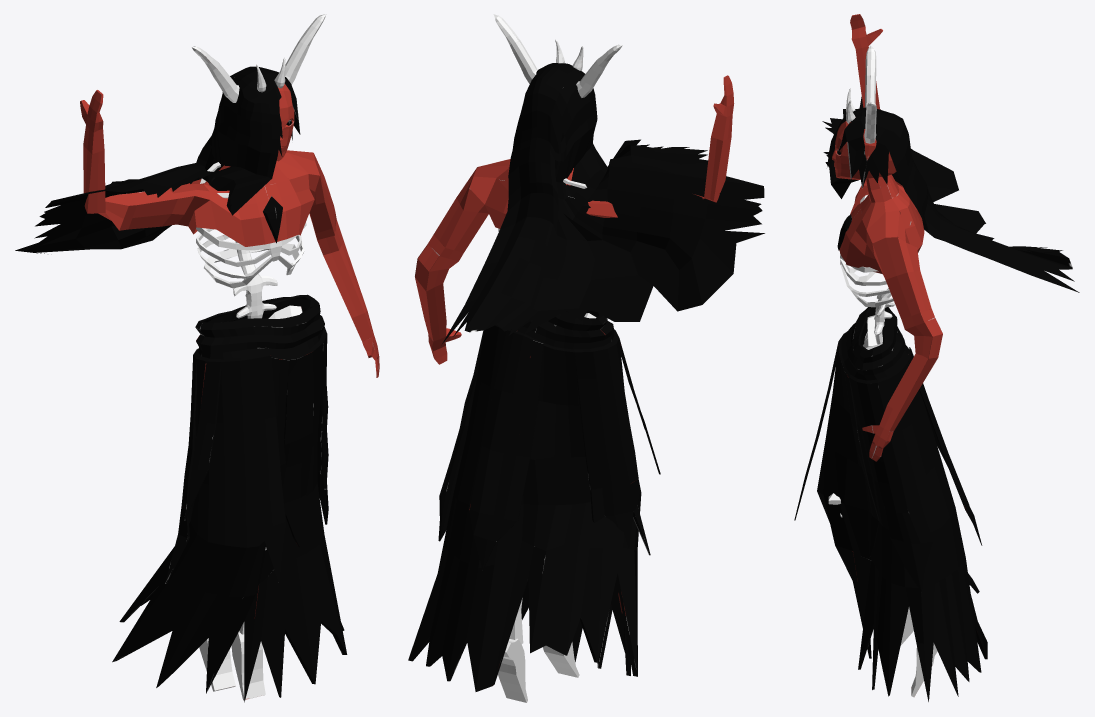
File: cursedqueenattack_09.fbx
The picture shows the model from 3 angles, left to right: view 1: azimuth 30°, elevation 25°; view 2: azimuth 150°, elevation 25°; view 3: azimuth 270°, elevation 25°; orthographic projection. The views are drawn at different scales.
Visible parts, largest first — view 1: cursed_queen; view 2: cursed_queen; view 3: cursed_queen.
Boxes of the visible parts, bbox=[...] form: cursed_queen: bbox=[15, 14, 379, 702]; cursed_queen: bbox=[408, 14, 764, 702]; cursed_queen: bbox=[794, 14, 1079, 701].
Bounding box in the file's own units: 148 × 280 × 119.
